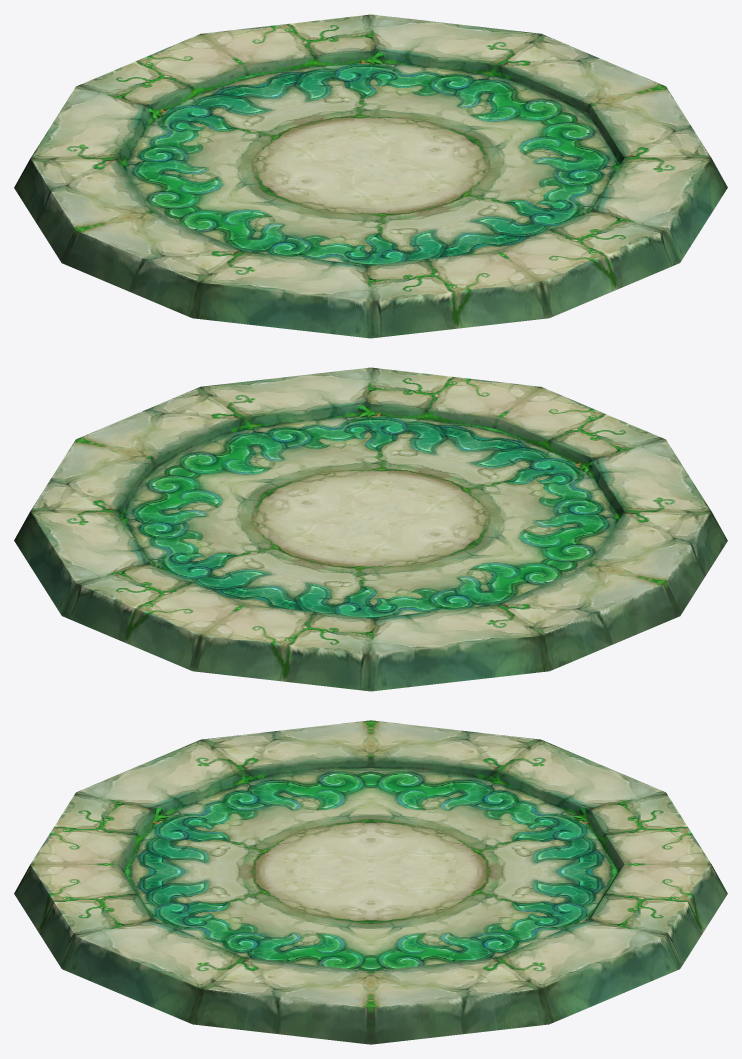
The model's file is taizi_01.FBX.
3 renders of one model, top to bottom at view 1: azimuth 30°, elevation 25°; view 2: azimuth 150°, elevation 25°; view 3: azimuth 270°, elevation 25°, orthographic.
Visible parts, largest first — view 1: taizi_01; view 2: taizi_01; view 3: taizi_01.
Boxes of the visible parts, x1,y1,x2,y2 form: taizi_01: [14, 14, 727, 338]; taizi_01: [14, 367, 727, 691]; taizi_01: [14, 720, 727, 1044].
Size of the model in its own units: 526 by 23.79 by 526.
